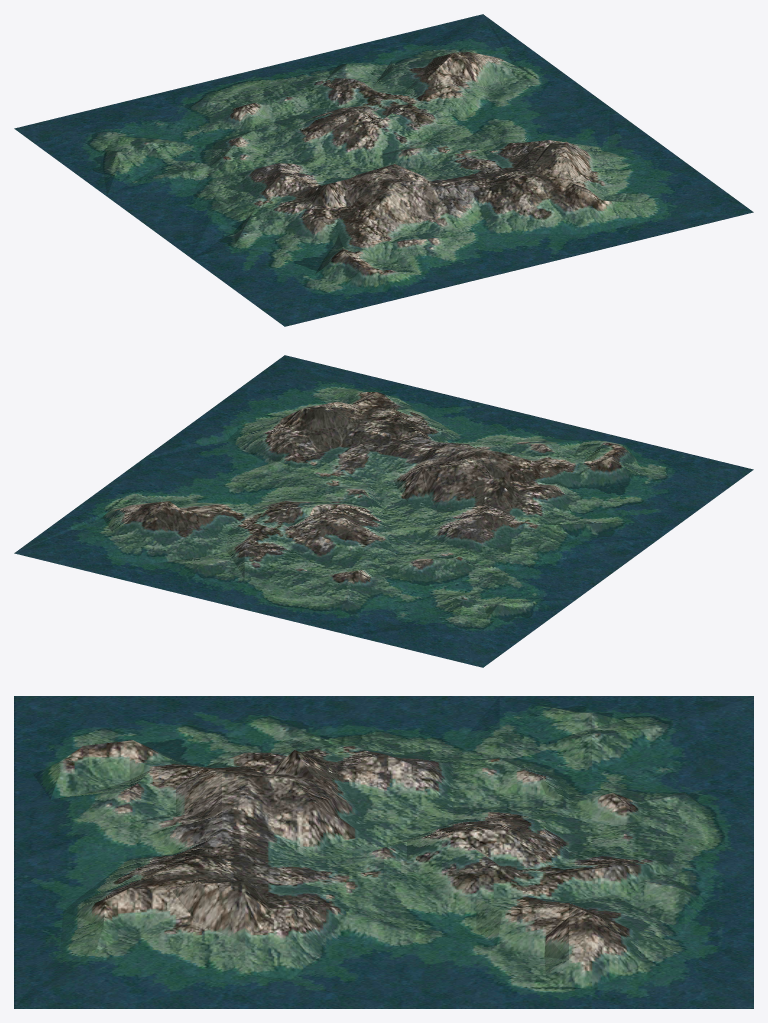
Rendered from F_Island_05.fbx.
3 renders of one model, top to bottom at view 1: azimuth 30°, elevation 25°; view 2: azimuth 150°, elevation 25°; view 3: azimuth 270°, elevation 25°, orthographic. The views are drawn at different scales.
Visible parts, largest first — view 1: F_Island_05; view 2: F_Island_05; view 3: F_Island_05.
Boxes of the visible parts, x1=… form: F_Island_05: x1=14, y1=14, x2=753, y2=326; F_Island_05: x1=14, y1=355, x2=753, y2=667; F_Island_05: x1=14, y1=696, x2=753, y2=1008.
Bounding box in the file's own units: 6 × 0.4406 × 6.
Materials: 1 (1 with a texture image).
